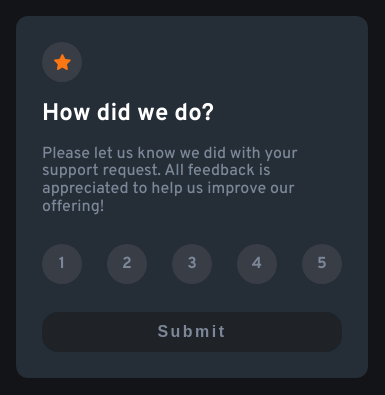
Test case: Rating component › submit is disabled if no rating is selected
The width and height of the screenshot is (385, 395).
Expected: the button "Submit" is disabled, 42,312 -> 342,352
Click the text "1".
click(62, 264)  # box 42,244 -> 82,284
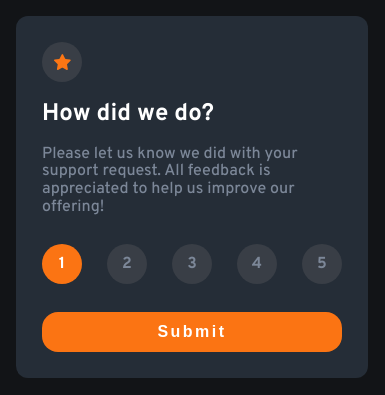
Now the button "Submit" is enabled, box 42,312 -> 342,352
